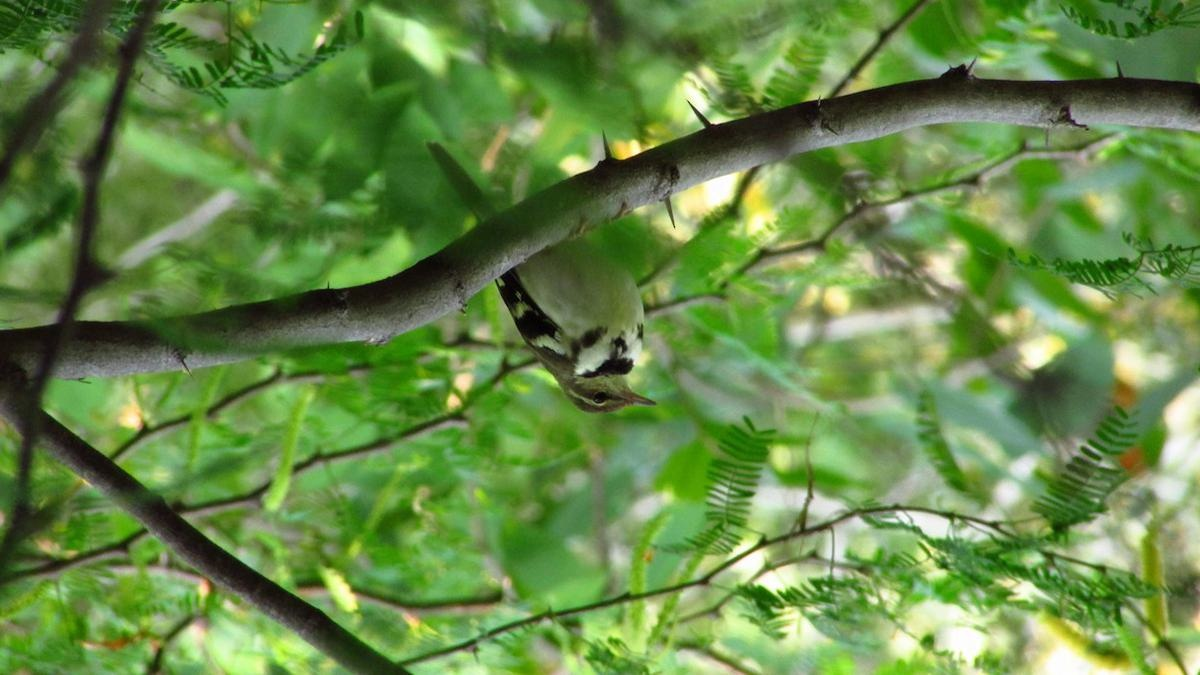wagtail: (425, 109, 687, 432)
